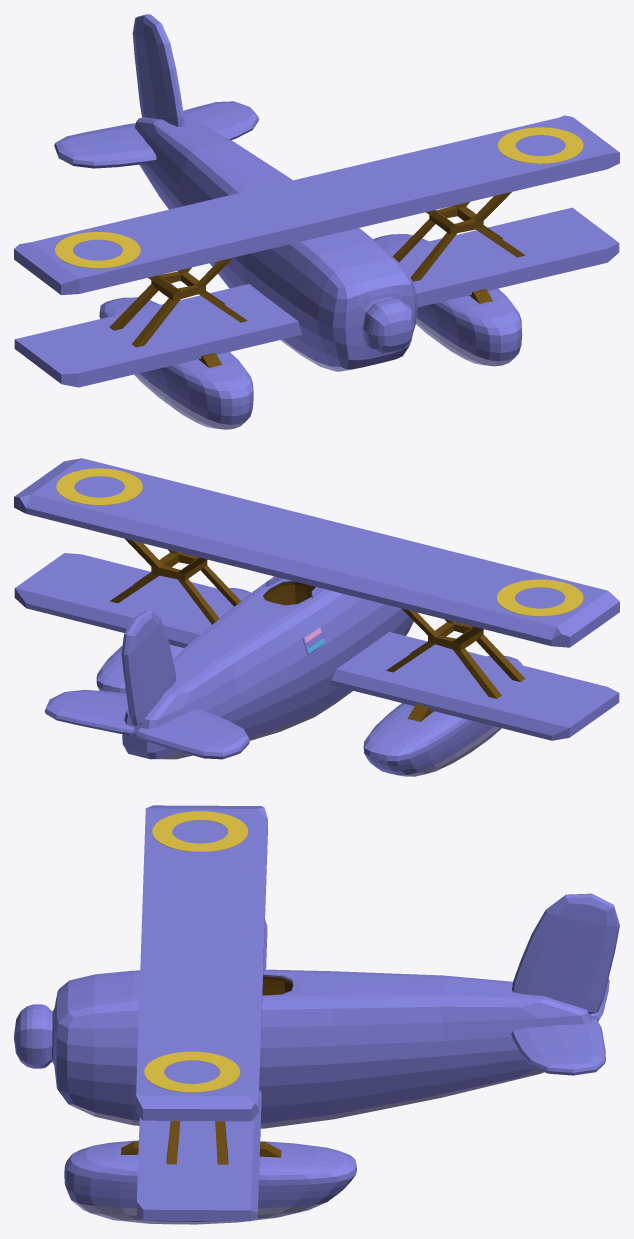
Rendered from aqua_bi_plane.fbx.
3 views of the same model, one above another, from view 1: azimuth 30°, elevation 25°; view 2: azimuth 150°, elevation 25°; view 3: azimuth 270°, elevation 25° (orthographic). The views are drawn at different scales.
Visible parts, largest first — view 1: Cube.005; view 2: Cube.005; view 3: Cube.005.
Boxes of the visible parts, <box> form: Cube.005: <box>14,14,619,429</box>; Cube.005: <box>14,458,619,776</box>; Cube.005: <box>14,805,619,1224</box>.
Bounding box in the file's own units: 498 × 231 × 592.
